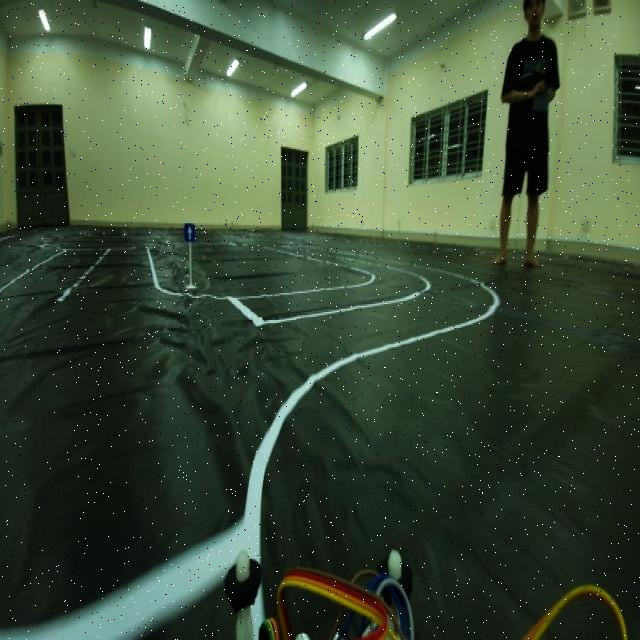onewayroad: (182, 220, 198, 250)
